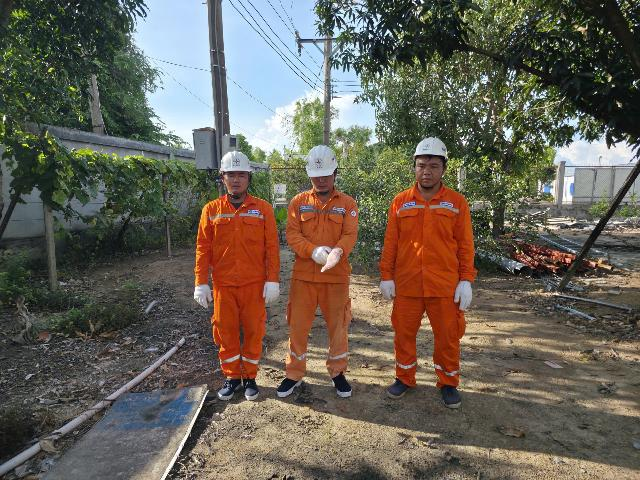gloves: (305, 244, 348, 276), (449, 280, 485, 312), (188, 278, 220, 310), (374, 277, 407, 303), (260, 278, 286, 305)
helmet: (299, 144, 343, 177), (414, 128, 447, 164), (217, 153, 256, 180)
shoes: (316, 363, 361, 398), (215, 373, 263, 403), (432, 378, 467, 412), (269, 372, 306, 400), (382, 374, 415, 402)
